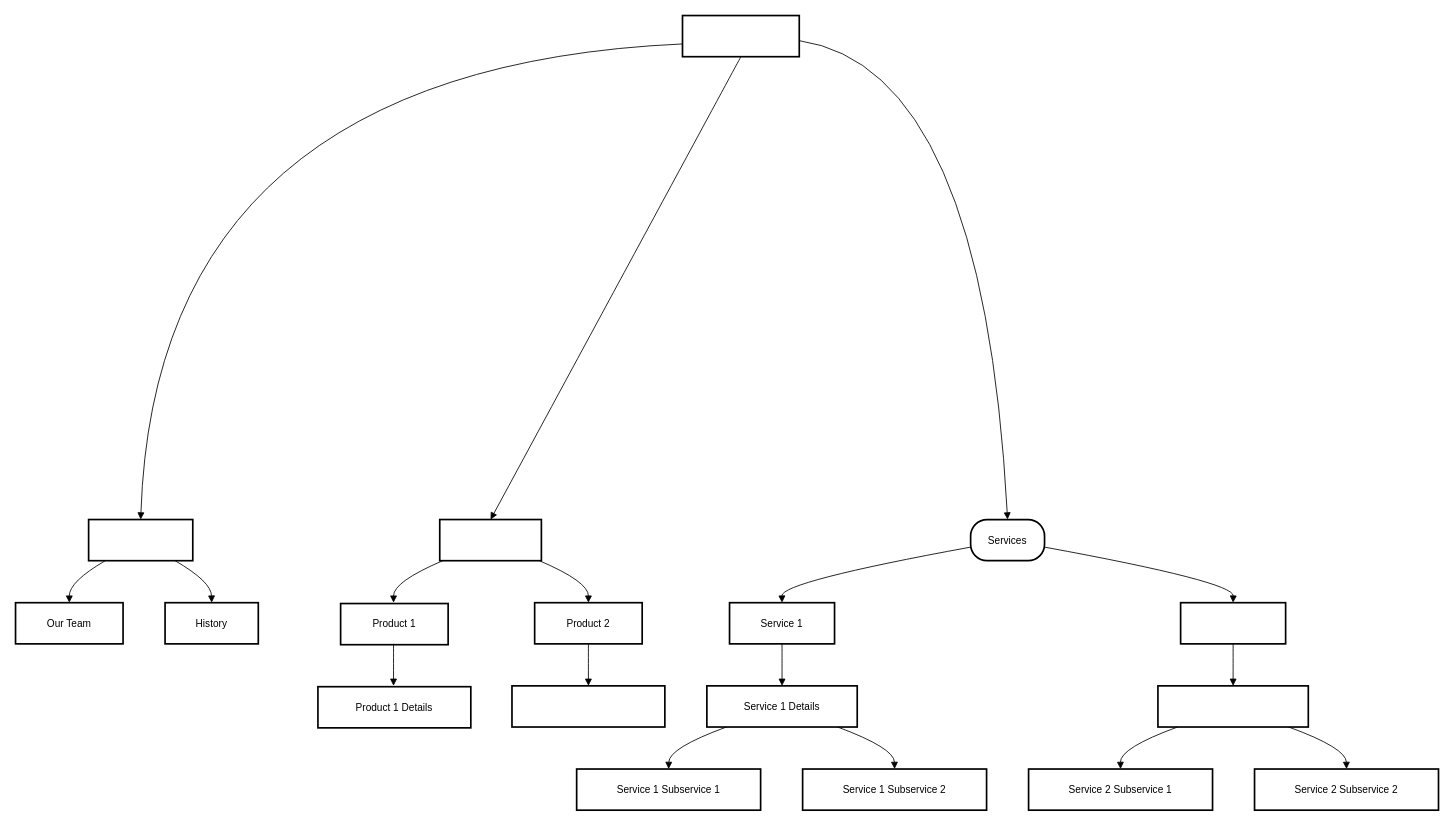
The diagram is 1453 pixels wide and 825 high, and some of its shapes have lost their labels. The shapes that lost their labels are listed below. From the top down, each one's box as (x1, y1, x2, y2) in pixels, then its label:
(681, 14, 800, 57): Home Page
(87, 518, 193, 561): About Us
(438, 518, 542, 561): Products
(1179, 601, 1286, 644): Service 2
(511, 685, 665, 727): Product 2 Details
(1157, 685, 1309, 727): Service 2 Details
